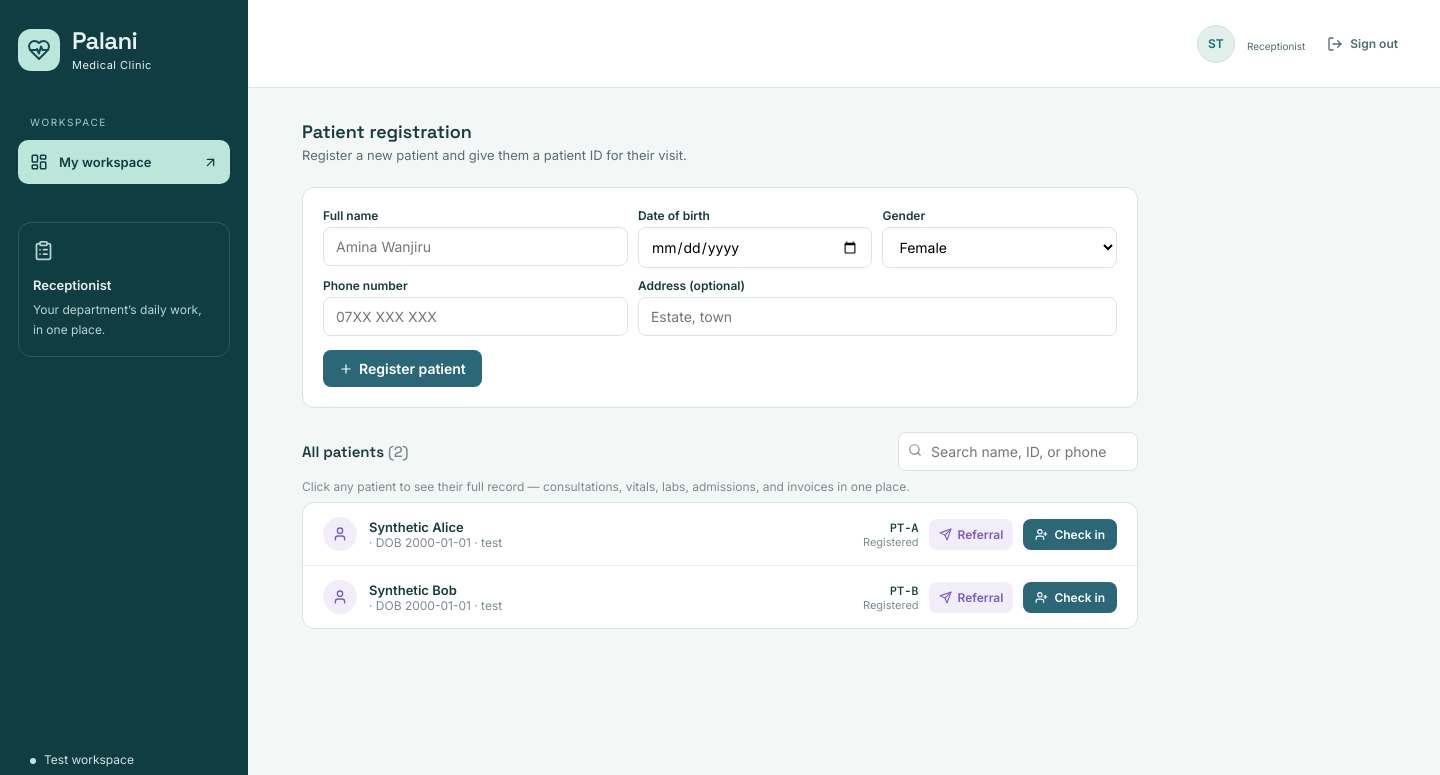
Test: Reception incoming referrals › treats a wrong-patient confirmation as unconfirmed
Click the button with aria-label "Log incoming referral for Synthetic Alice": click(971, 534) x1=929 y1=518 x2=1013 y2=550
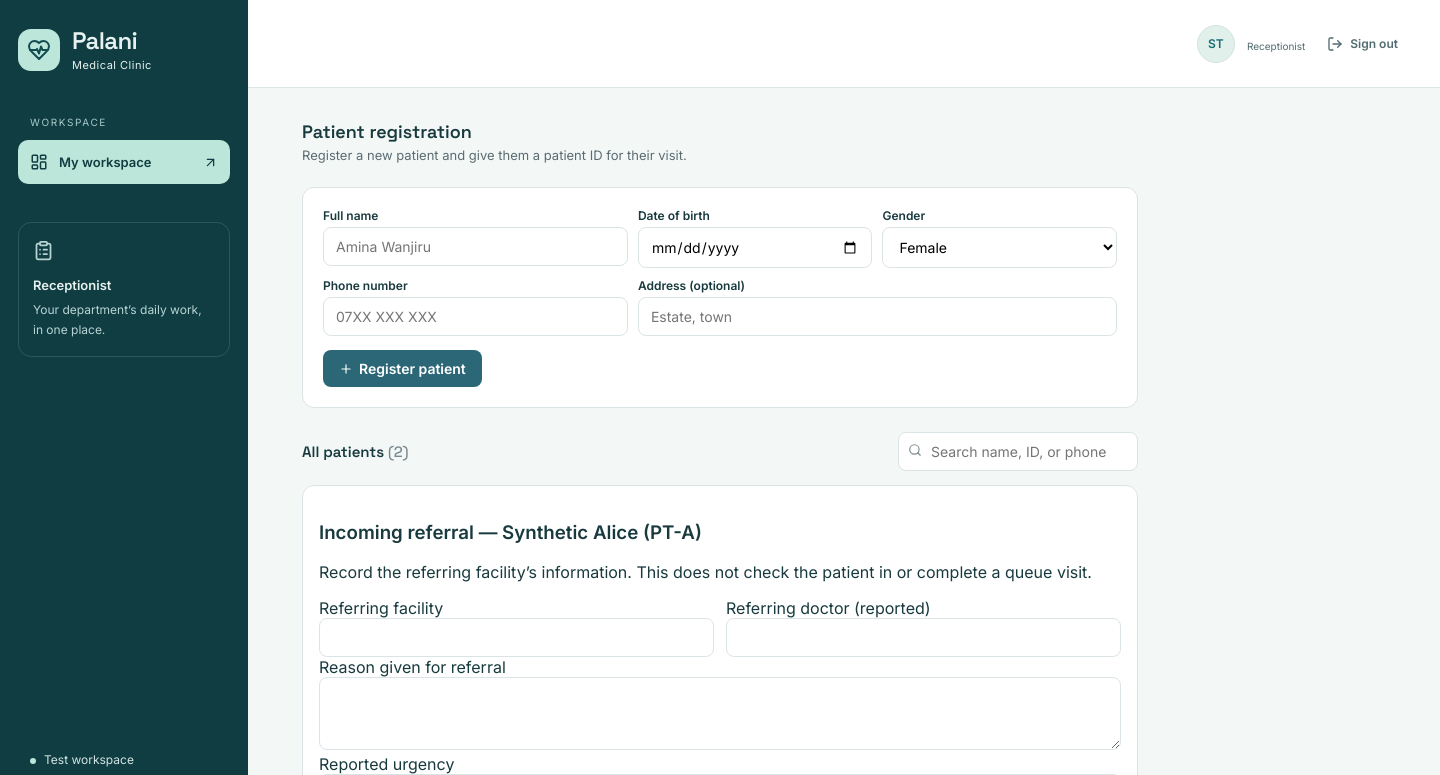
In the field labelled "Referring facility": (516, 638) x1=319 y1=618 x2=714 y2=657, type "Source facility"
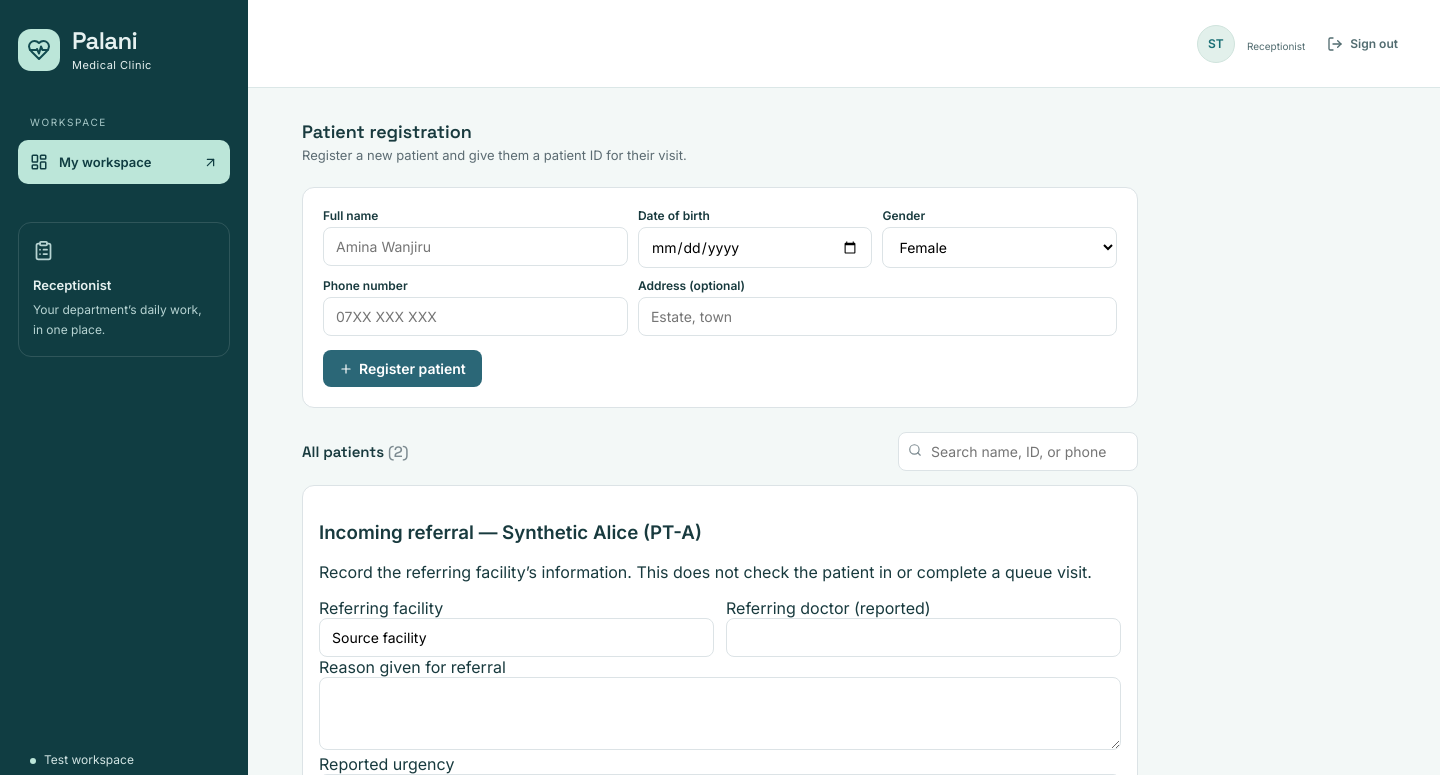
In the text box labelled "Reason given for referral": (720, 714) x1=319 y1=677 x2=1121 y2=750, type "Source reason"
(page scrolled)
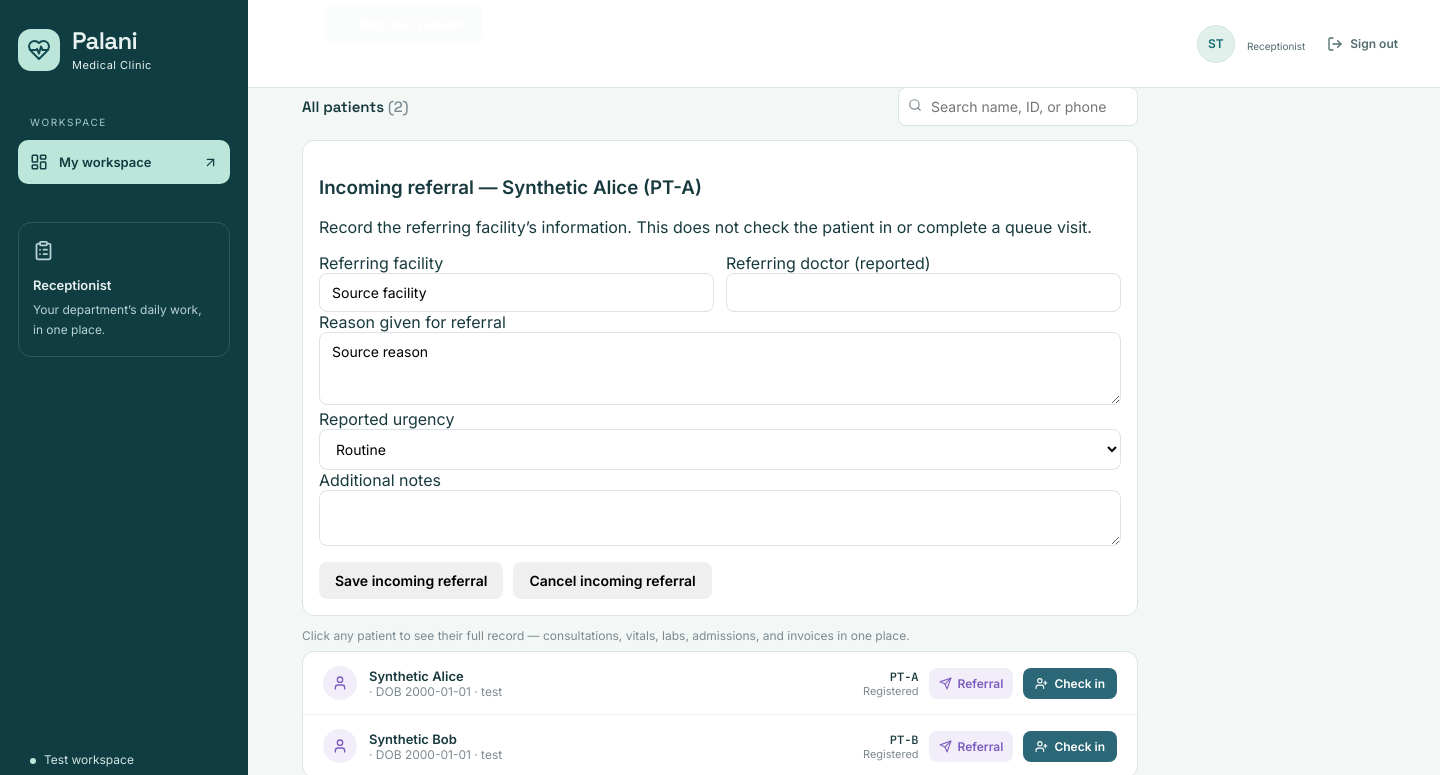
Click the button "Save incoming referral": click(411, 581) x1=319 y1=562 x2=504 y2=599
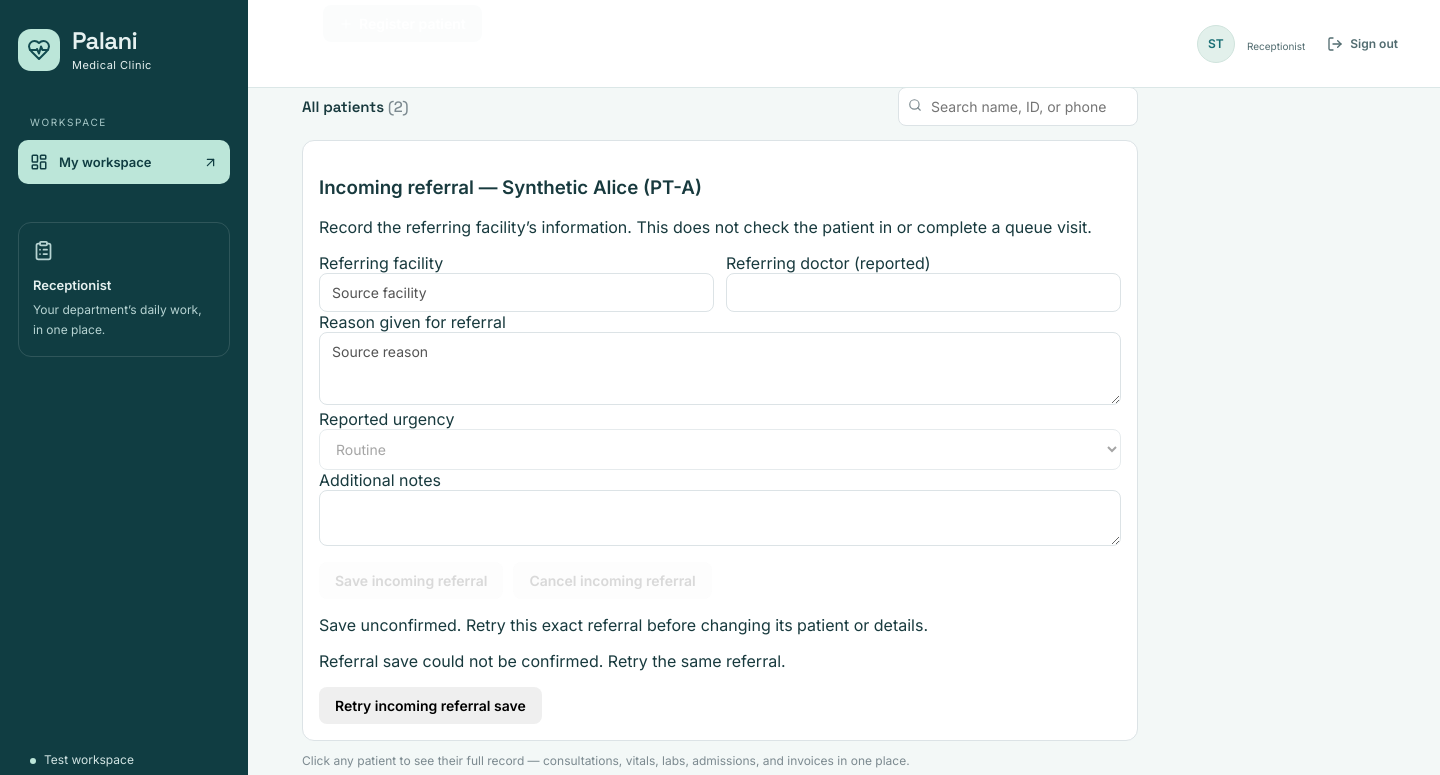
Expected: the button "Retry incoming referral save" is shown, x1=319 y1=687 x2=542 y2=724
